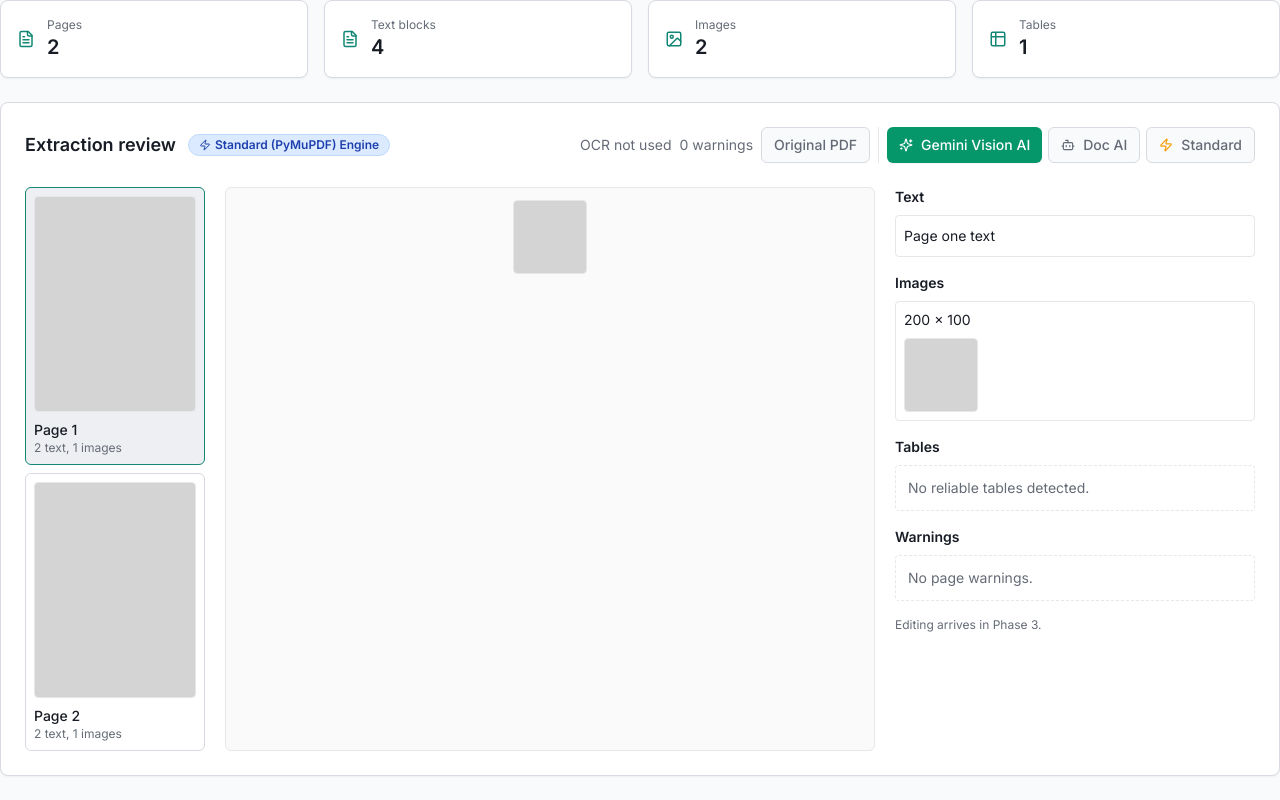
Test: ExtractionReview preview rendering › switches the selected preview when the user changes pages
This screenshot has width=1280, height=800.
Step 1. Click the button "Page 2 2 text, 1 images" → coordinates (115, 612), box [25,473,205,751]
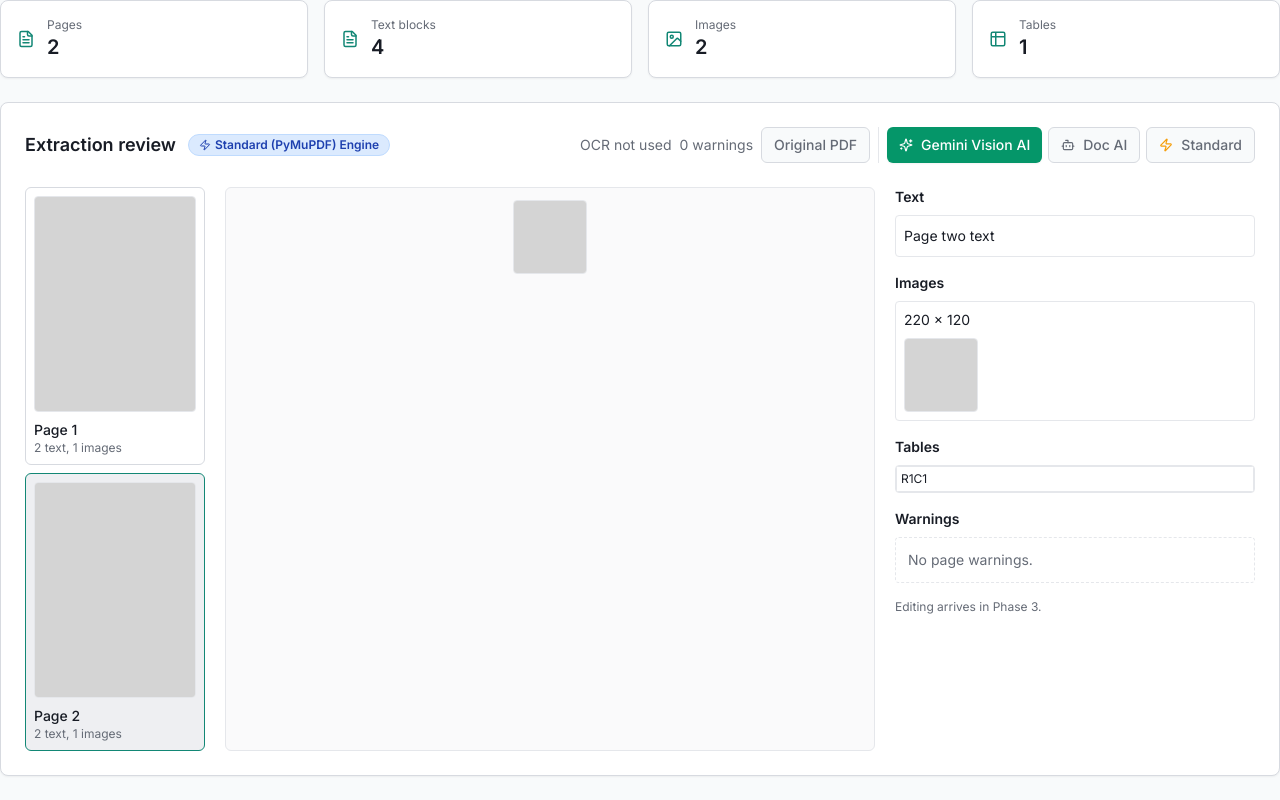
Now the text "Page two text" is shown, box [895,215,1255,257]
